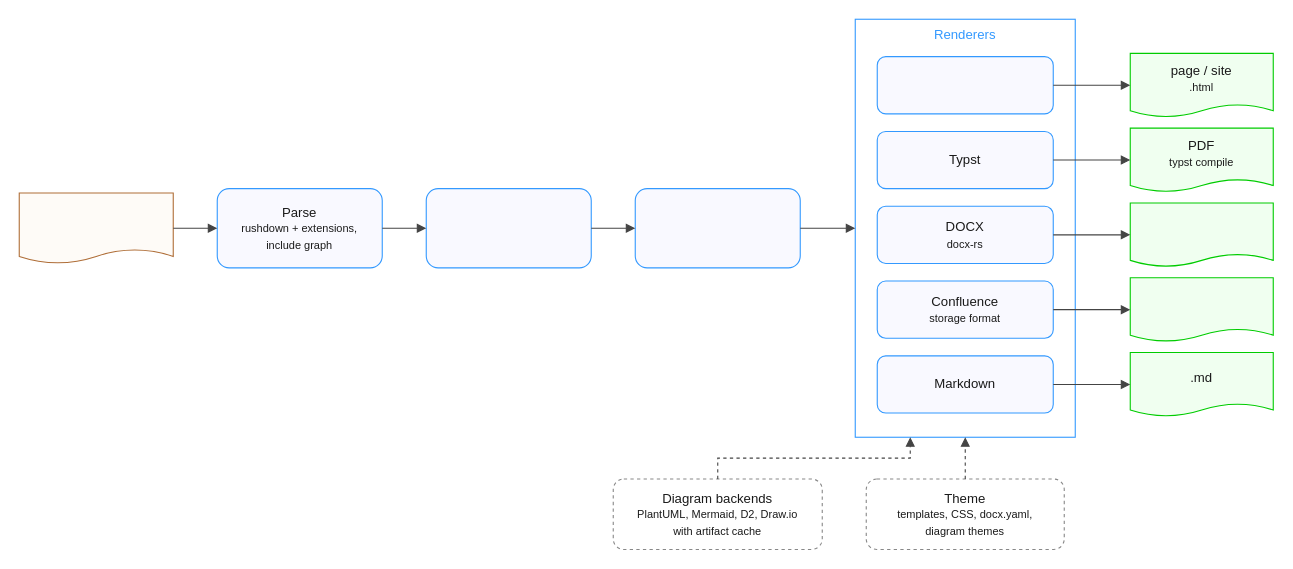
This 1293x569 diagram has some shape labels left out. The centre of each missing label's shape, as x and y in pixels:
".docx or Google Docs" belongs at (1201,234).
"Confluence page" belongs at (1201,309).
"HTML Tera template" belongs at (964,85).
"Markdown sources :::include tree" belongs at (95,227).
"Render profile front matter + --meta* options, format" belongs at (717,228).
"Resolve links, heading IDs, footnotes" belongs at (508,228).
